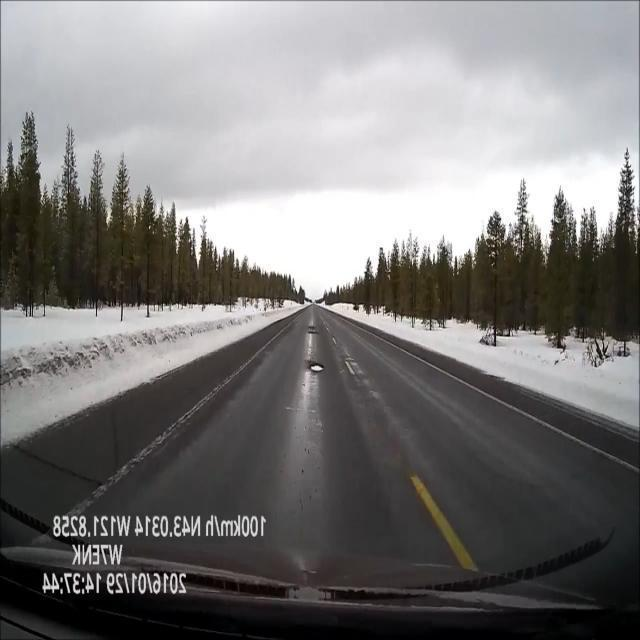pothole: (300, 350, 325, 378), (302, 320, 322, 338)
